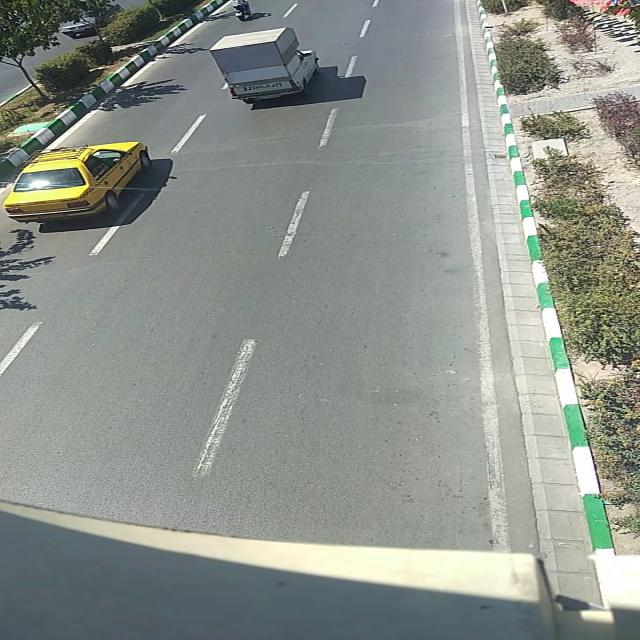car: (5, 141, 158, 227), (207, 26, 320, 104), (60, 1, 126, 38)
motor: (227, 1, 257, 20)
